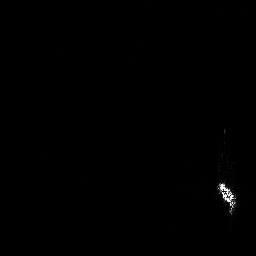ship: (215, 178, 238, 216)
